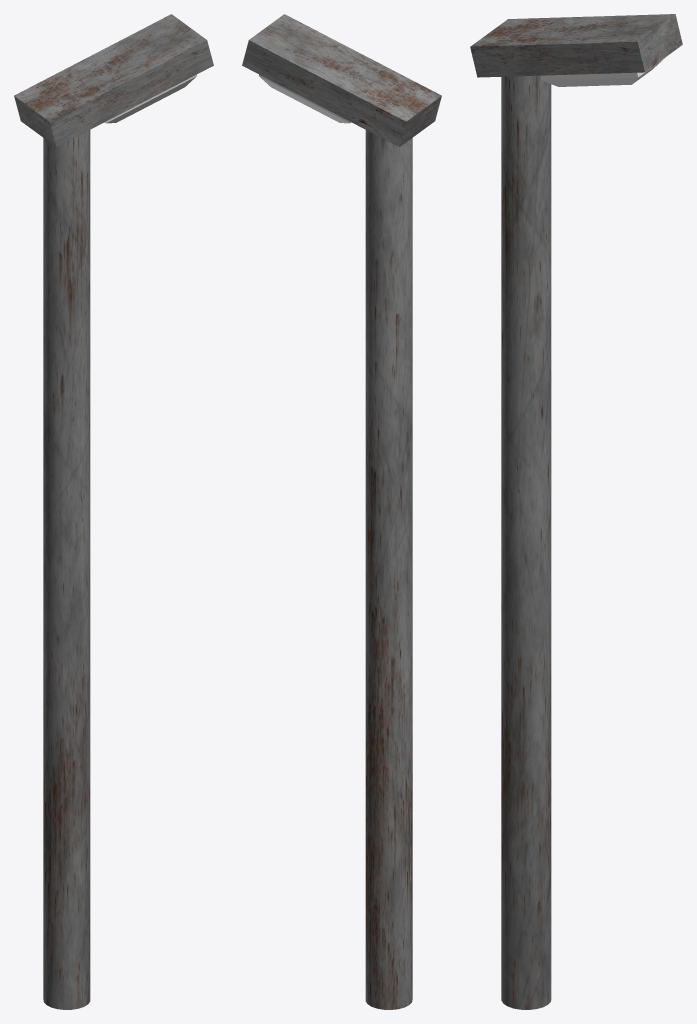
The model's file is Streetlamp.fbx.
The picture shows the model from 3 angles, left to right: view 1: azimuth 30°, elevation 25°; view 2: azimuth 150°, elevation 25°; view 3: azimuth 330°, elevation 25°; orthographic projection. The views are drawn at different scales.
Parts seen in each view (by area): view 1: pCylinder2; view 2: pCylinder2; view 3: pCylinder2.
Part boxes in pixels (left/top/right/bottom): pCylinder2: left=14, top=14, right=213, bottom=1009; pCylinder2: left=242, top=14, right=441, bottom=1009; pCylinder2: left=470, top=14, right=682, bottom=1009.
Size of the model in its own units: 1.16 by 6.34 by 0.4339.
